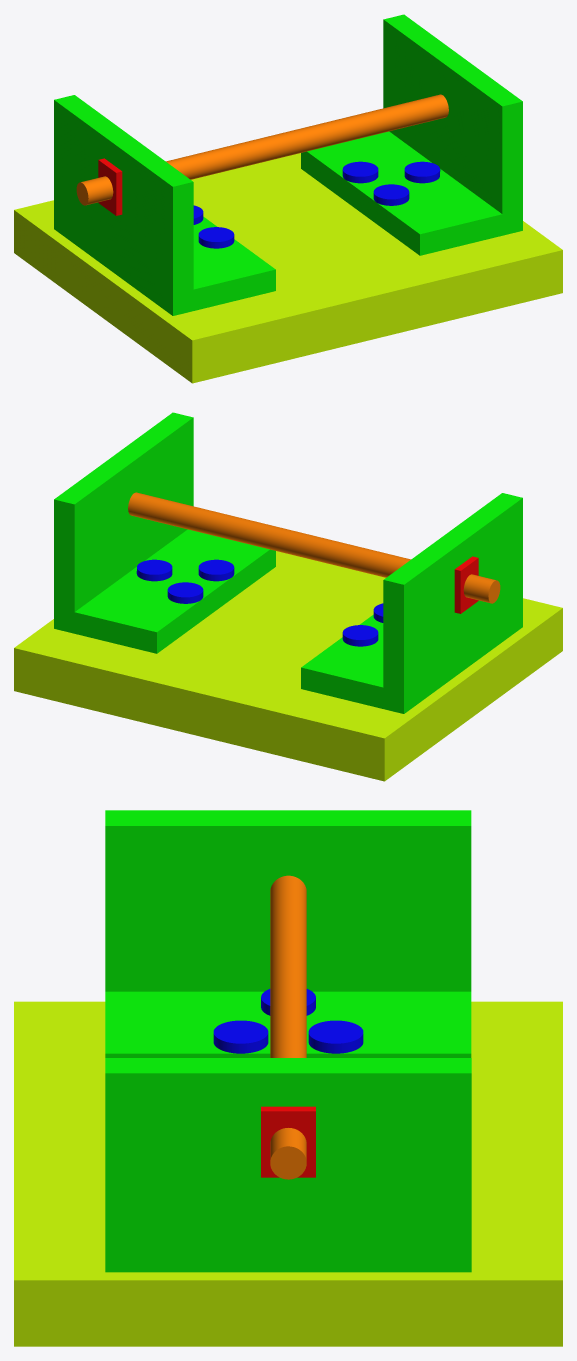
The picture shows the model from 3 angles, top to bottom: view 1: azimuth 30°, elevation 25°; view 2: azimuth 150°, elevation 25°; view 3: azimuth 270°, elevation 25°; orthographic projection. The views are drawn at different scales.
Parts seen in each view (by area): view 1: plate_1, l-bracket_1 (×2), rod_1, bolt_1 (×4), nut_2; view 2: plate_1, l-bracket_1 (×2), rod_1, bolt_1 (×4), nut_2; view 3: l-bracket_1 (×2), plate_1, rod_1, bolt_1 (×2), nut_1.
Boxes of the visible parts, x1,y1,x2,y2 form: plate_1: (14, 153, 562, 383); l-bracket_1 (×2): (54, 14, 522, 315); rod_1: (76, 94, 448, 205); bolt_1 (×4): (198, 161, 440, 248); nut_2: (98, 158, 122, 215); plate_1: (14, 551, 562, 781); l-bracket_1 (×2): (54, 412, 522, 713); rod_1: (128, 492, 500, 603); bolt_1 (×4): (136, 559, 378, 646); nut_2: (454, 556, 478, 613); l-bracket_1 (×2): (105, 810, 471, 1272); plate_1: (14, 1001, 562, 1346); rod_1: (270, 875, 306, 1179); bolt_1 (×2): (213, 1020, 363, 1053); nut_1: (261, 1106, 315, 1177).
Size of the model in its own units: 0.2 by 0.084 by 0.15.
